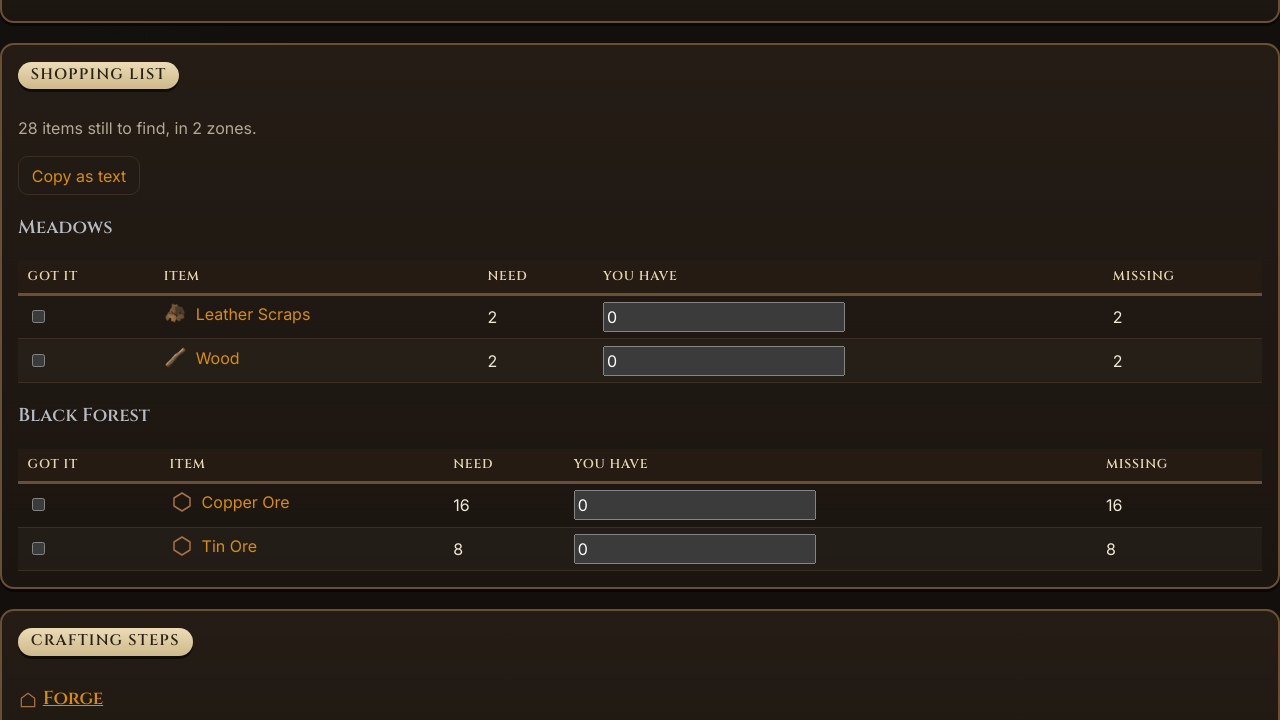
Test case: planner page › subtracts the inventory and remembers it in the profile
This screenshot has width=1280, height=720.
(page scrolled)
Replace the text in the number field named "You have of Wood" with "100" at (724, 361), box [603,346,845,376]
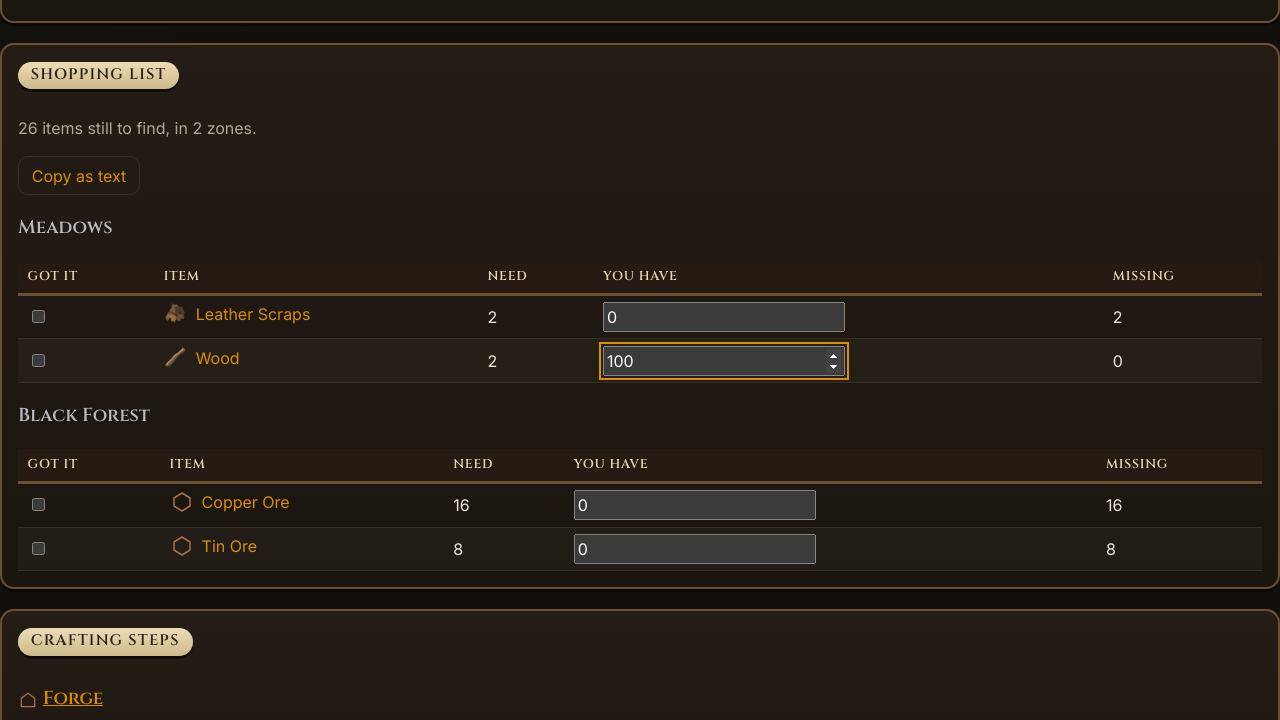
expect the cell "0" is shown: met, box [1103,339,1262,383]
